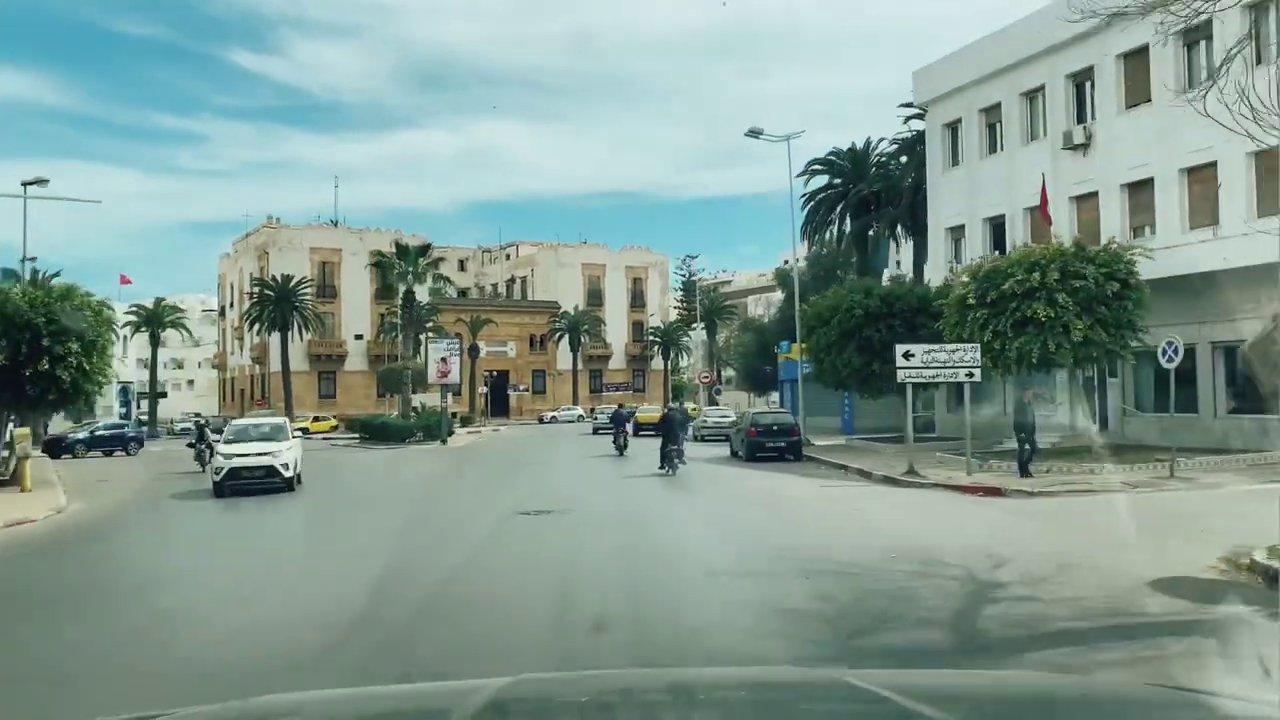no stopping: (1156, 333, 1185, 369)
